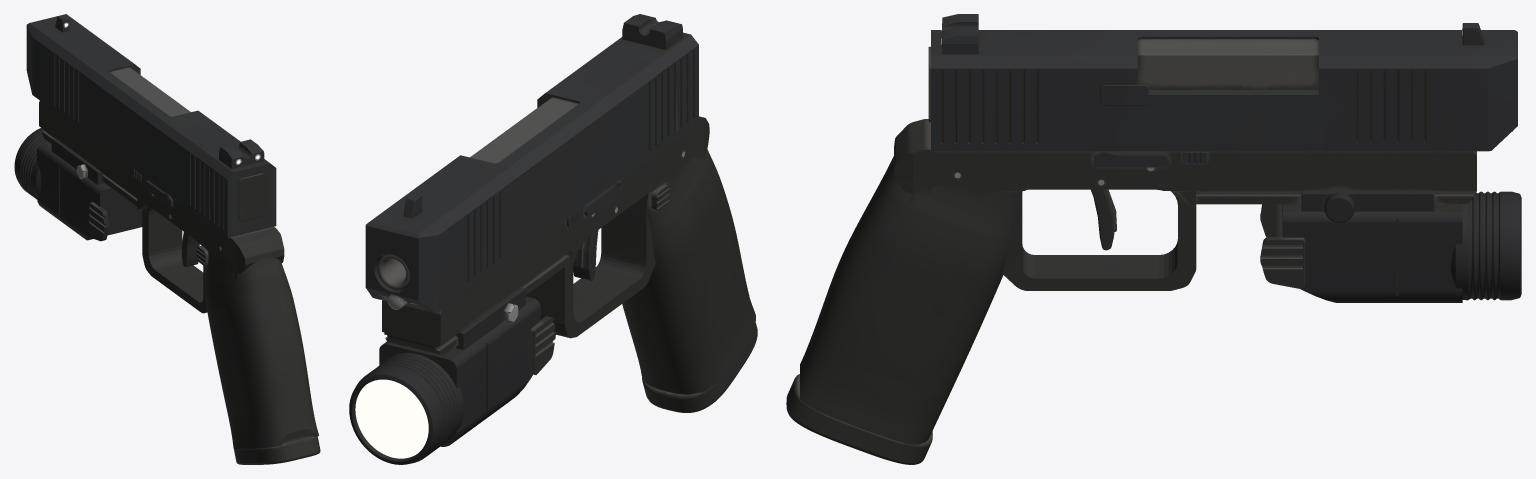
File: pistol.glb
3 renders of one model, left to right at view 1: azimuth 30°, elevation 25°; view 2: azimuth 150°, elevation 25°; view 3: azimuth 270°, elevation 25°, orthographic. The views are drawn at different scales.
Visible parts, largest first — view 1: Frame, Slide, WeaponLight; view 2: Frame, Slide, WeaponLight, LightLens; view 3: Frame, Slide, WeaponLight.
Part boxes in pixels (x1,y1,x2,y2): Frame: [39, 101, 320, 464]; Slide: [26, 14, 276, 237]; WeaponLight: [14, 128, 142, 241]; Frame: [382, 116, 757, 412]; Slide: [365, 14, 698, 313]; WeaponLight: [349, 287, 555, 464]; LightLens: [355, 379, 428, 458]; Frame: [786, 119, 1476, 464]; Slide: [928, 14, 1517, 151]; WeaponLight: [1260, 190, 1521, 302].
Size of the model in its own units: 0.0344 by 0.1504 by 0.2329.
Materials: 3 (1 with a texture image).
